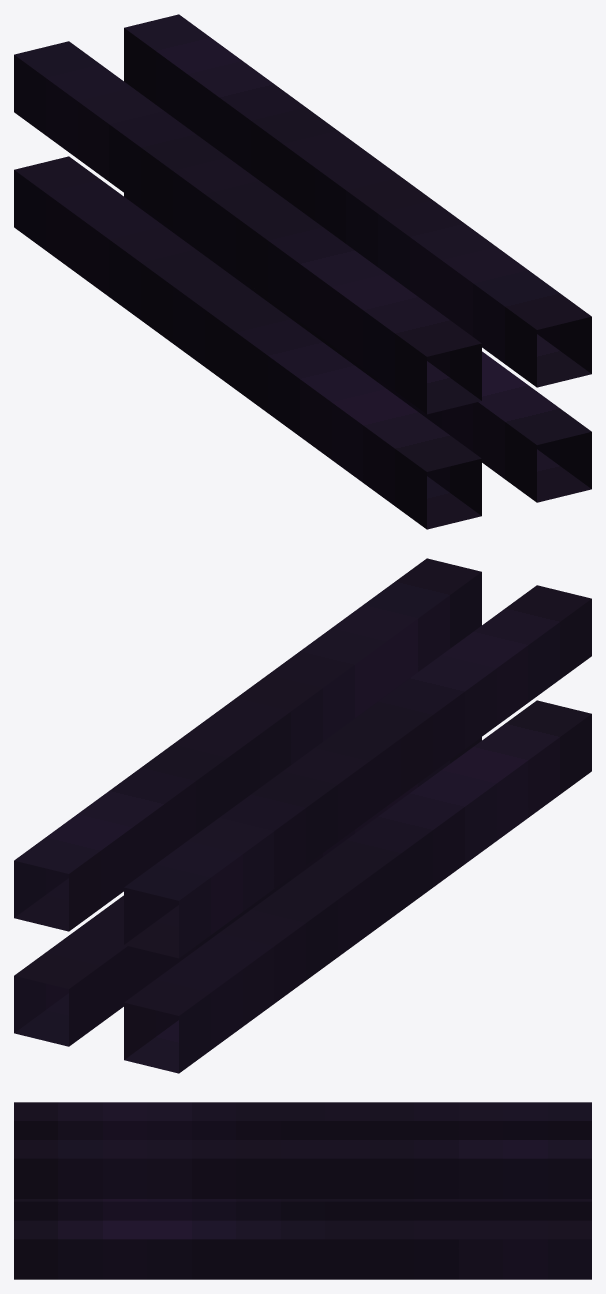
The model's file is impulse_cannon_beam.obj.
3 views of the same model, one above another, from view 1: azimuth 30°, elevation 25°; view 2: azimuth 150°, elevation 25°; view 3: azimuth 270°, elevation 25° (orthographic). The views are drawn at different scales.
Visible parts, largest first — view 1: Beam_Augment_Continuous_cube.023; view 2: Beam_Augment_Continuous_cube.023; view 3: Beam_Augment_Continuous_cube.023.
Boxes of the visible parts, x1=… form: Beam_Augment_Continuous_cube.023: x1=14, y1=14, x2=591, y2=529; Beam_Augment_Continuous_cube.023: x1=14, y1=558, x2=591, y2=1073; Beam_Augment_Continuous_cube.023: x1=14, y1=1102, x2=591, y2=1279.
Size of the model in its own units: 0.0938 by 0.0938 by 0.4062.
